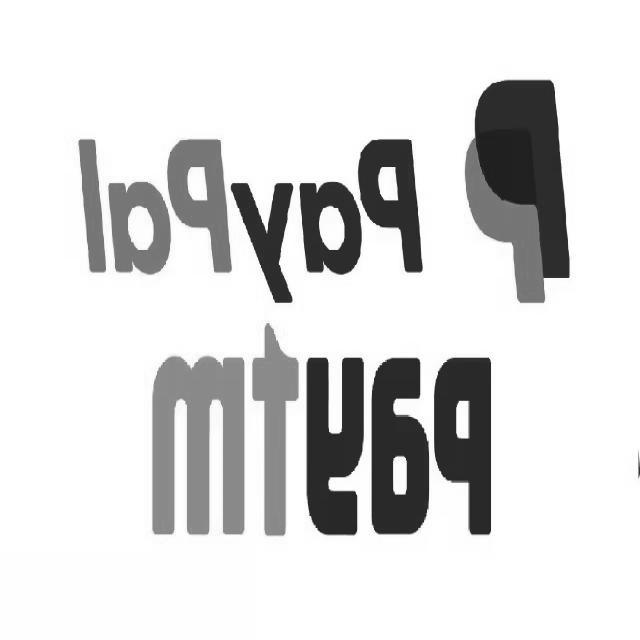fully_visible: (144, 316, 502, 546)
